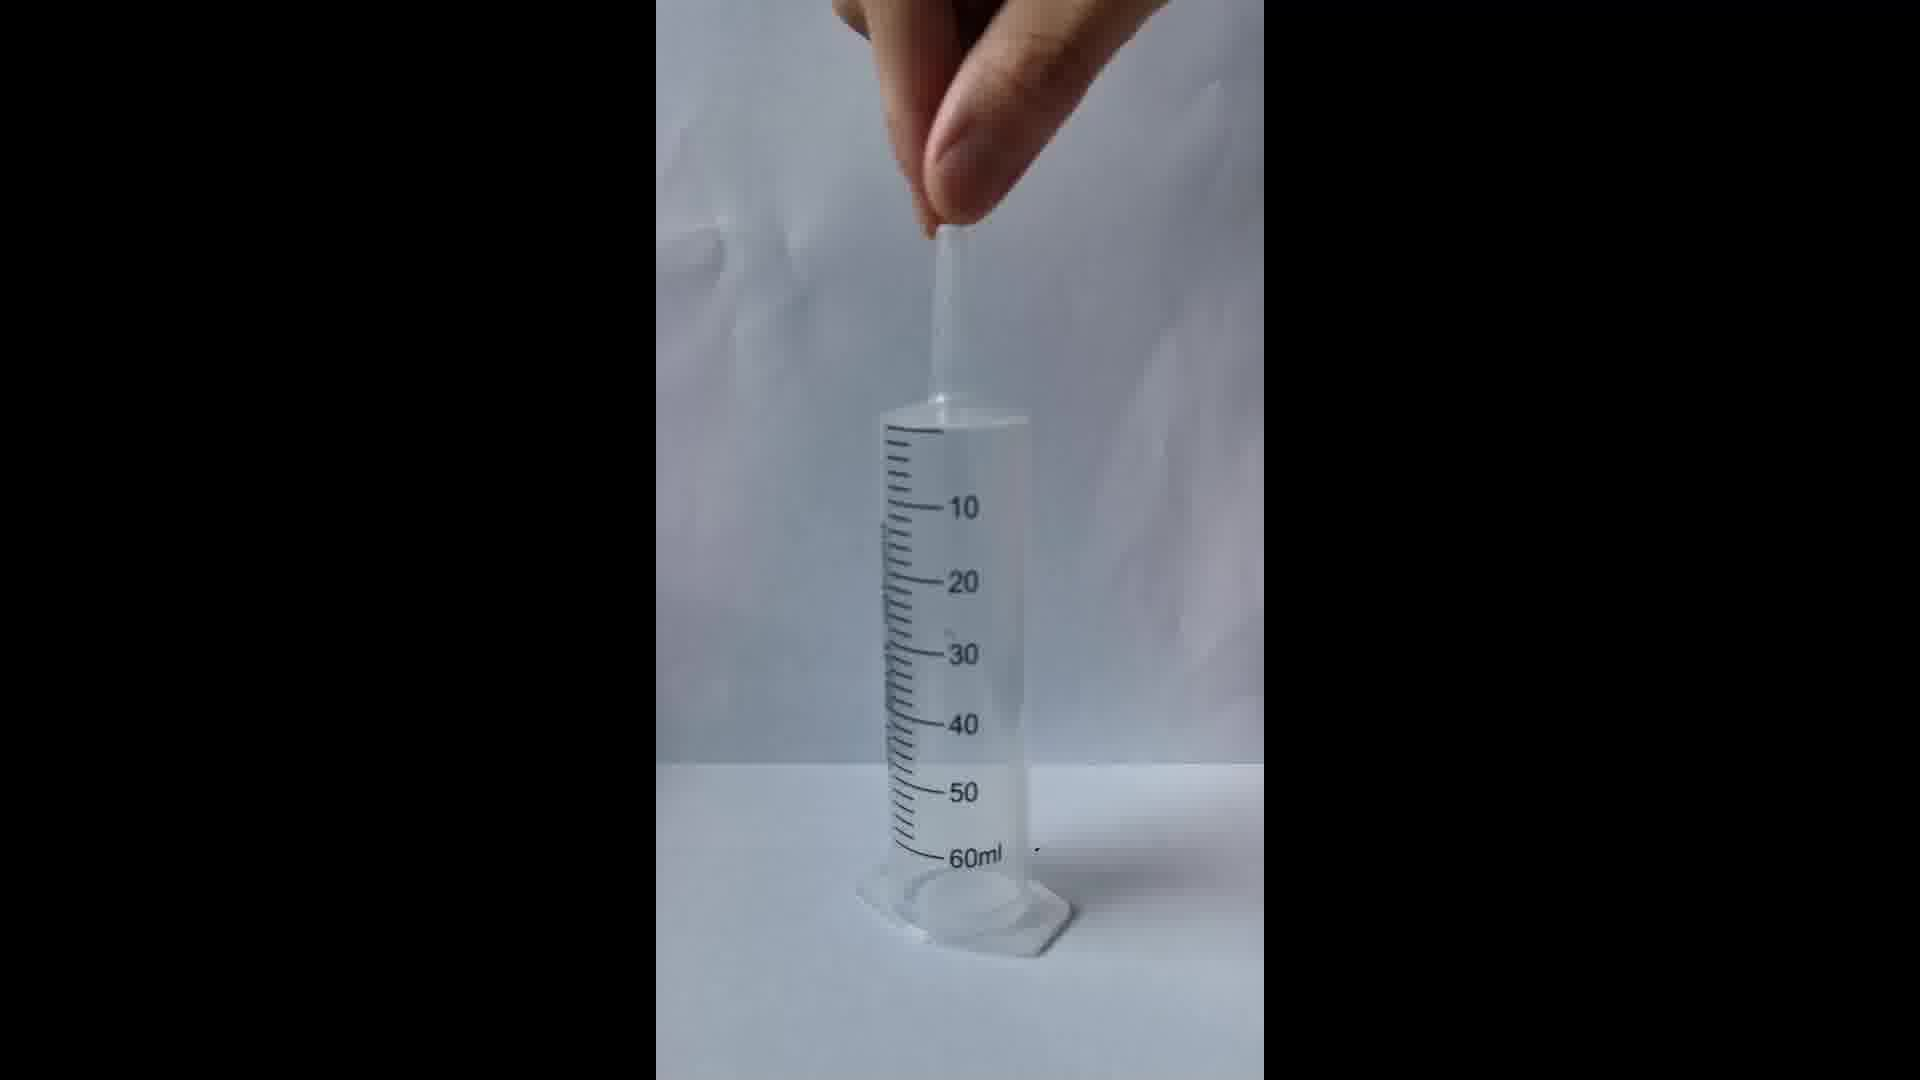syringe: (837, 247, 1097, 973)
